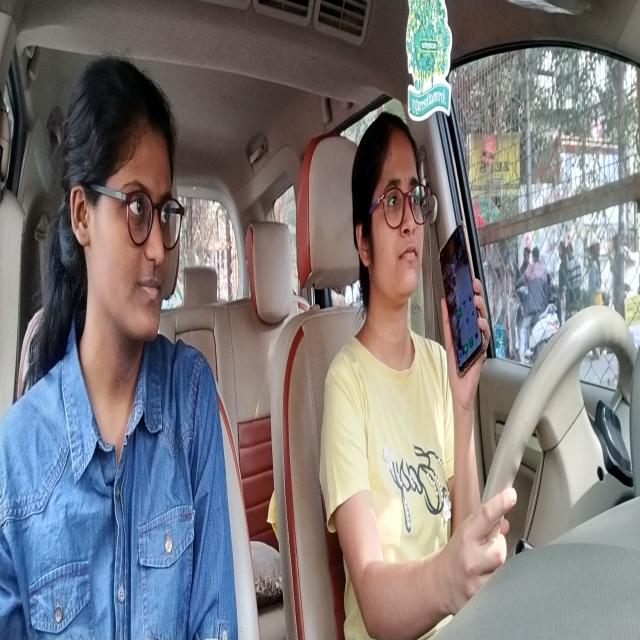mobile: (436, 234, 485, 372)
person: (79, 67, 177, 346), (352, 123, 421, 294)
